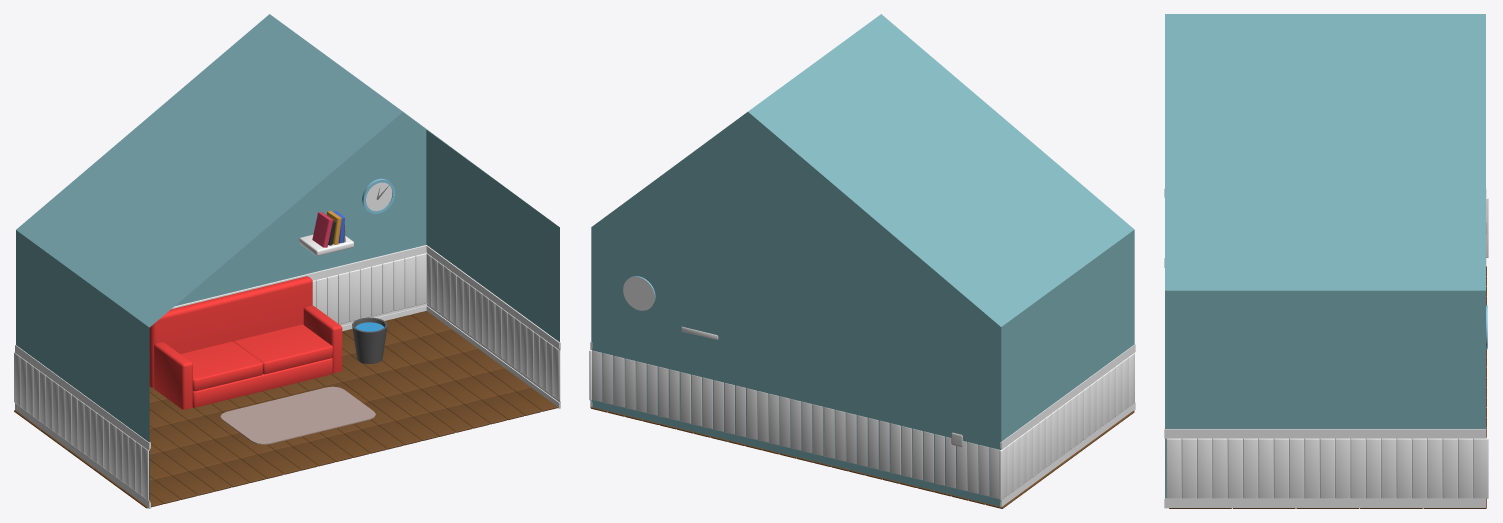
Rendered from LivingRoomScene.fbx.
The picture shows the model from 3 angles, left to right: view 1: azimuth 30°, elevation 25°; view 2: azimuth 150°, elevation 25°; view 3: azimuth 270°, elevation 25°; orthographic projection. The views are drawn at different scales.
Parts seen in each view (by area): view 1: Living Room, Floor.001, Sofa, Wall Texture.001, Wall Texture, Rug, Wall Holder.001, Wall Holder, Cylinder, Clock; view 2: Living Room, Wall Texture, Wall Texture.001, Wall Holder.001, Floor.001, Clock; view 3: Living Room, Wall Texture.001, Wall Holder.001, Floor.001.
Boxes of the visible parts, box(x1,y1,x2,y2) form: Living Room: box(16, 14, 559, 500); Floor.001: box(14, 311, 557, 508); Sofa: box(149, 276, 342, 409); Wall Texture.001: box(14, 253, 560, 500); Wall Texture: box(312, 253, 426, 324); Rug: box(220, 386, 375, 444); Wall Holder.001: box(15, 245, 560, 508); Wall Holder: box(171, 245, 426, 331); Cylinder: box(352, 317, 387, 363); Clock: box(362, 178, 395, 213); Living Room: box(591, 14, 1134, 506); Wall Texture: box(592, 350, 999, 499); Wall Texture.001: box(589, 350, 1134, 500); Wall Holder.001: box(590, 342, 1135, 507); Floor.001: box(590, 407, 1134, 508); Clock: box(623, 276, 655, 310); Living Room: box(1165, 14, 1485, 498); Wall Texture.001: box(1166, 197, 1488, 498); Wall Holder.001: box(1164, 188, 1486, 508); Floor.001: box(1169, 266, 1486, 508).
Size of the model in its own units: 34.49 by 27.19 by 19.52.
